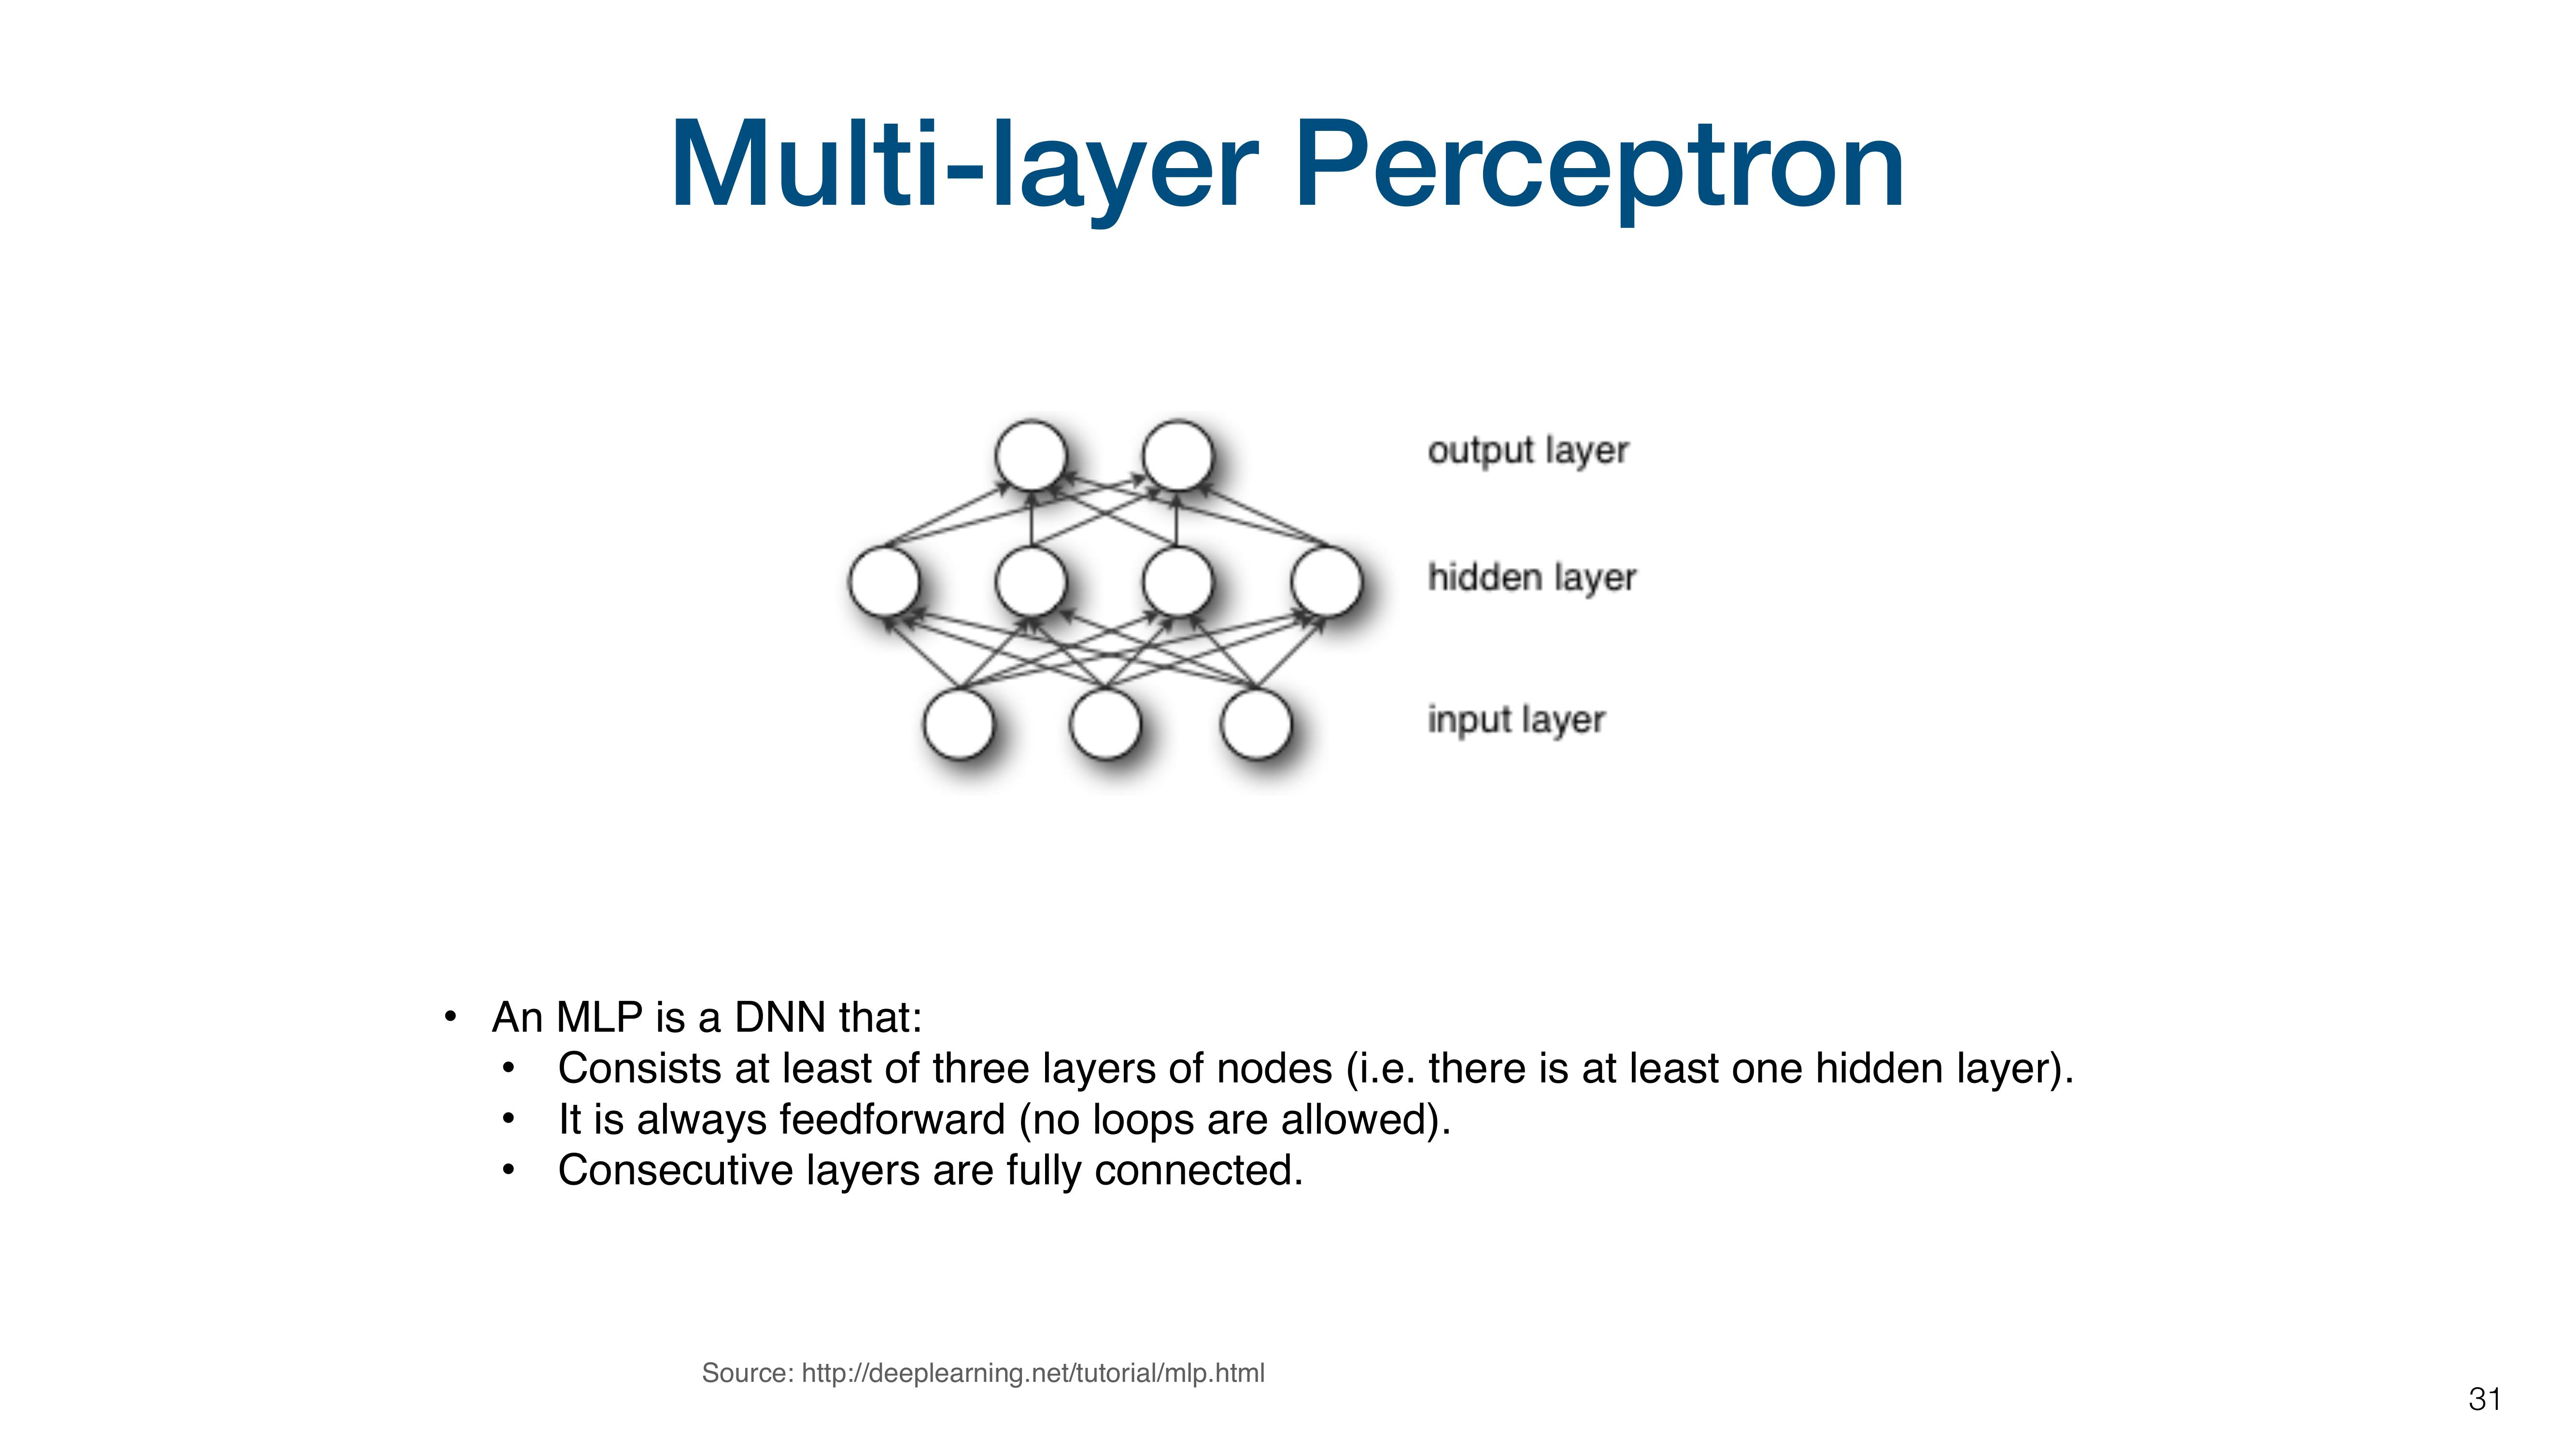Title: (640, 92, 1939, 253)
